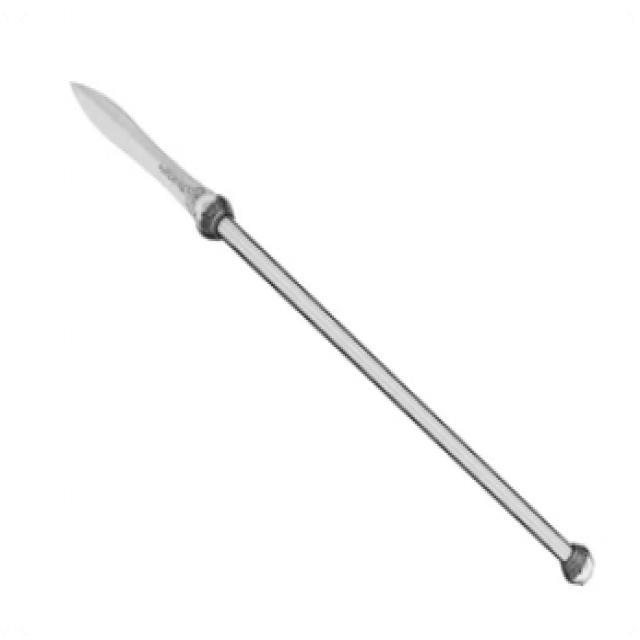spear: (52, 56, 610, 595)
